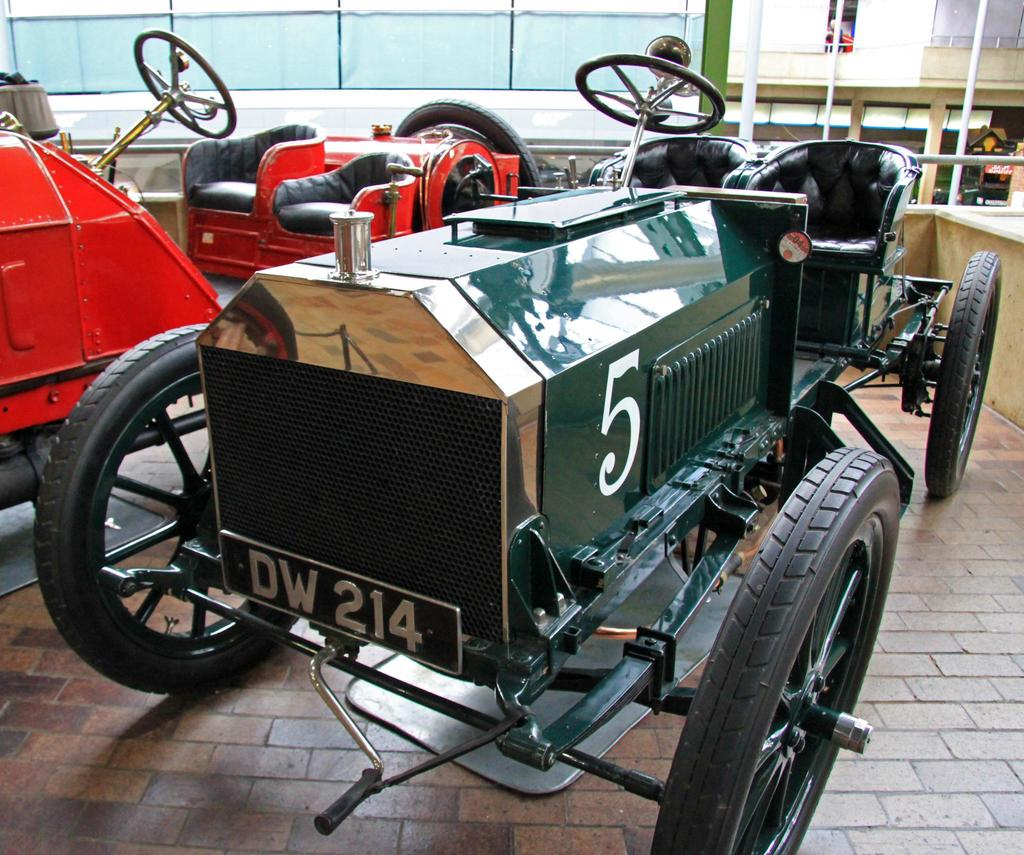Car: (0, 26, 540, 510), (0, 32, 246, 508), (913, 143, 979, 205), (968, 139, 1023, 186)
